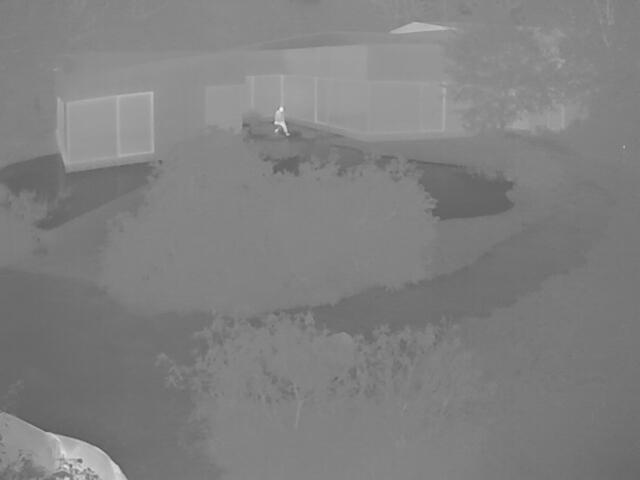person: (270, 106, 290, 135)
